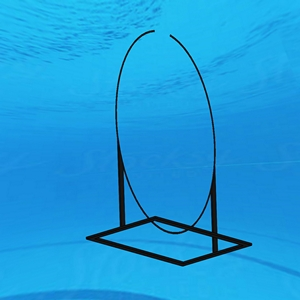circle: (84, 27, 254, 270)
